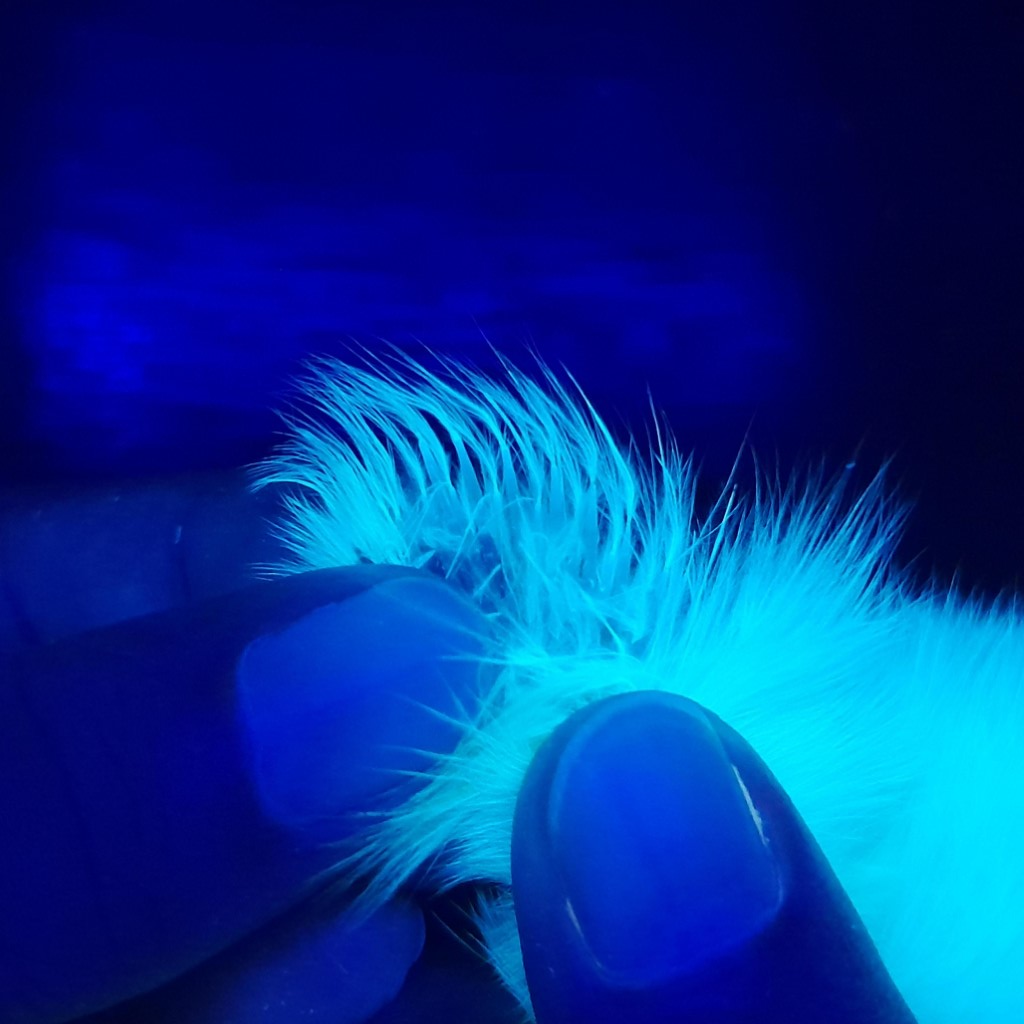female: (355, 427, 686, 715)
